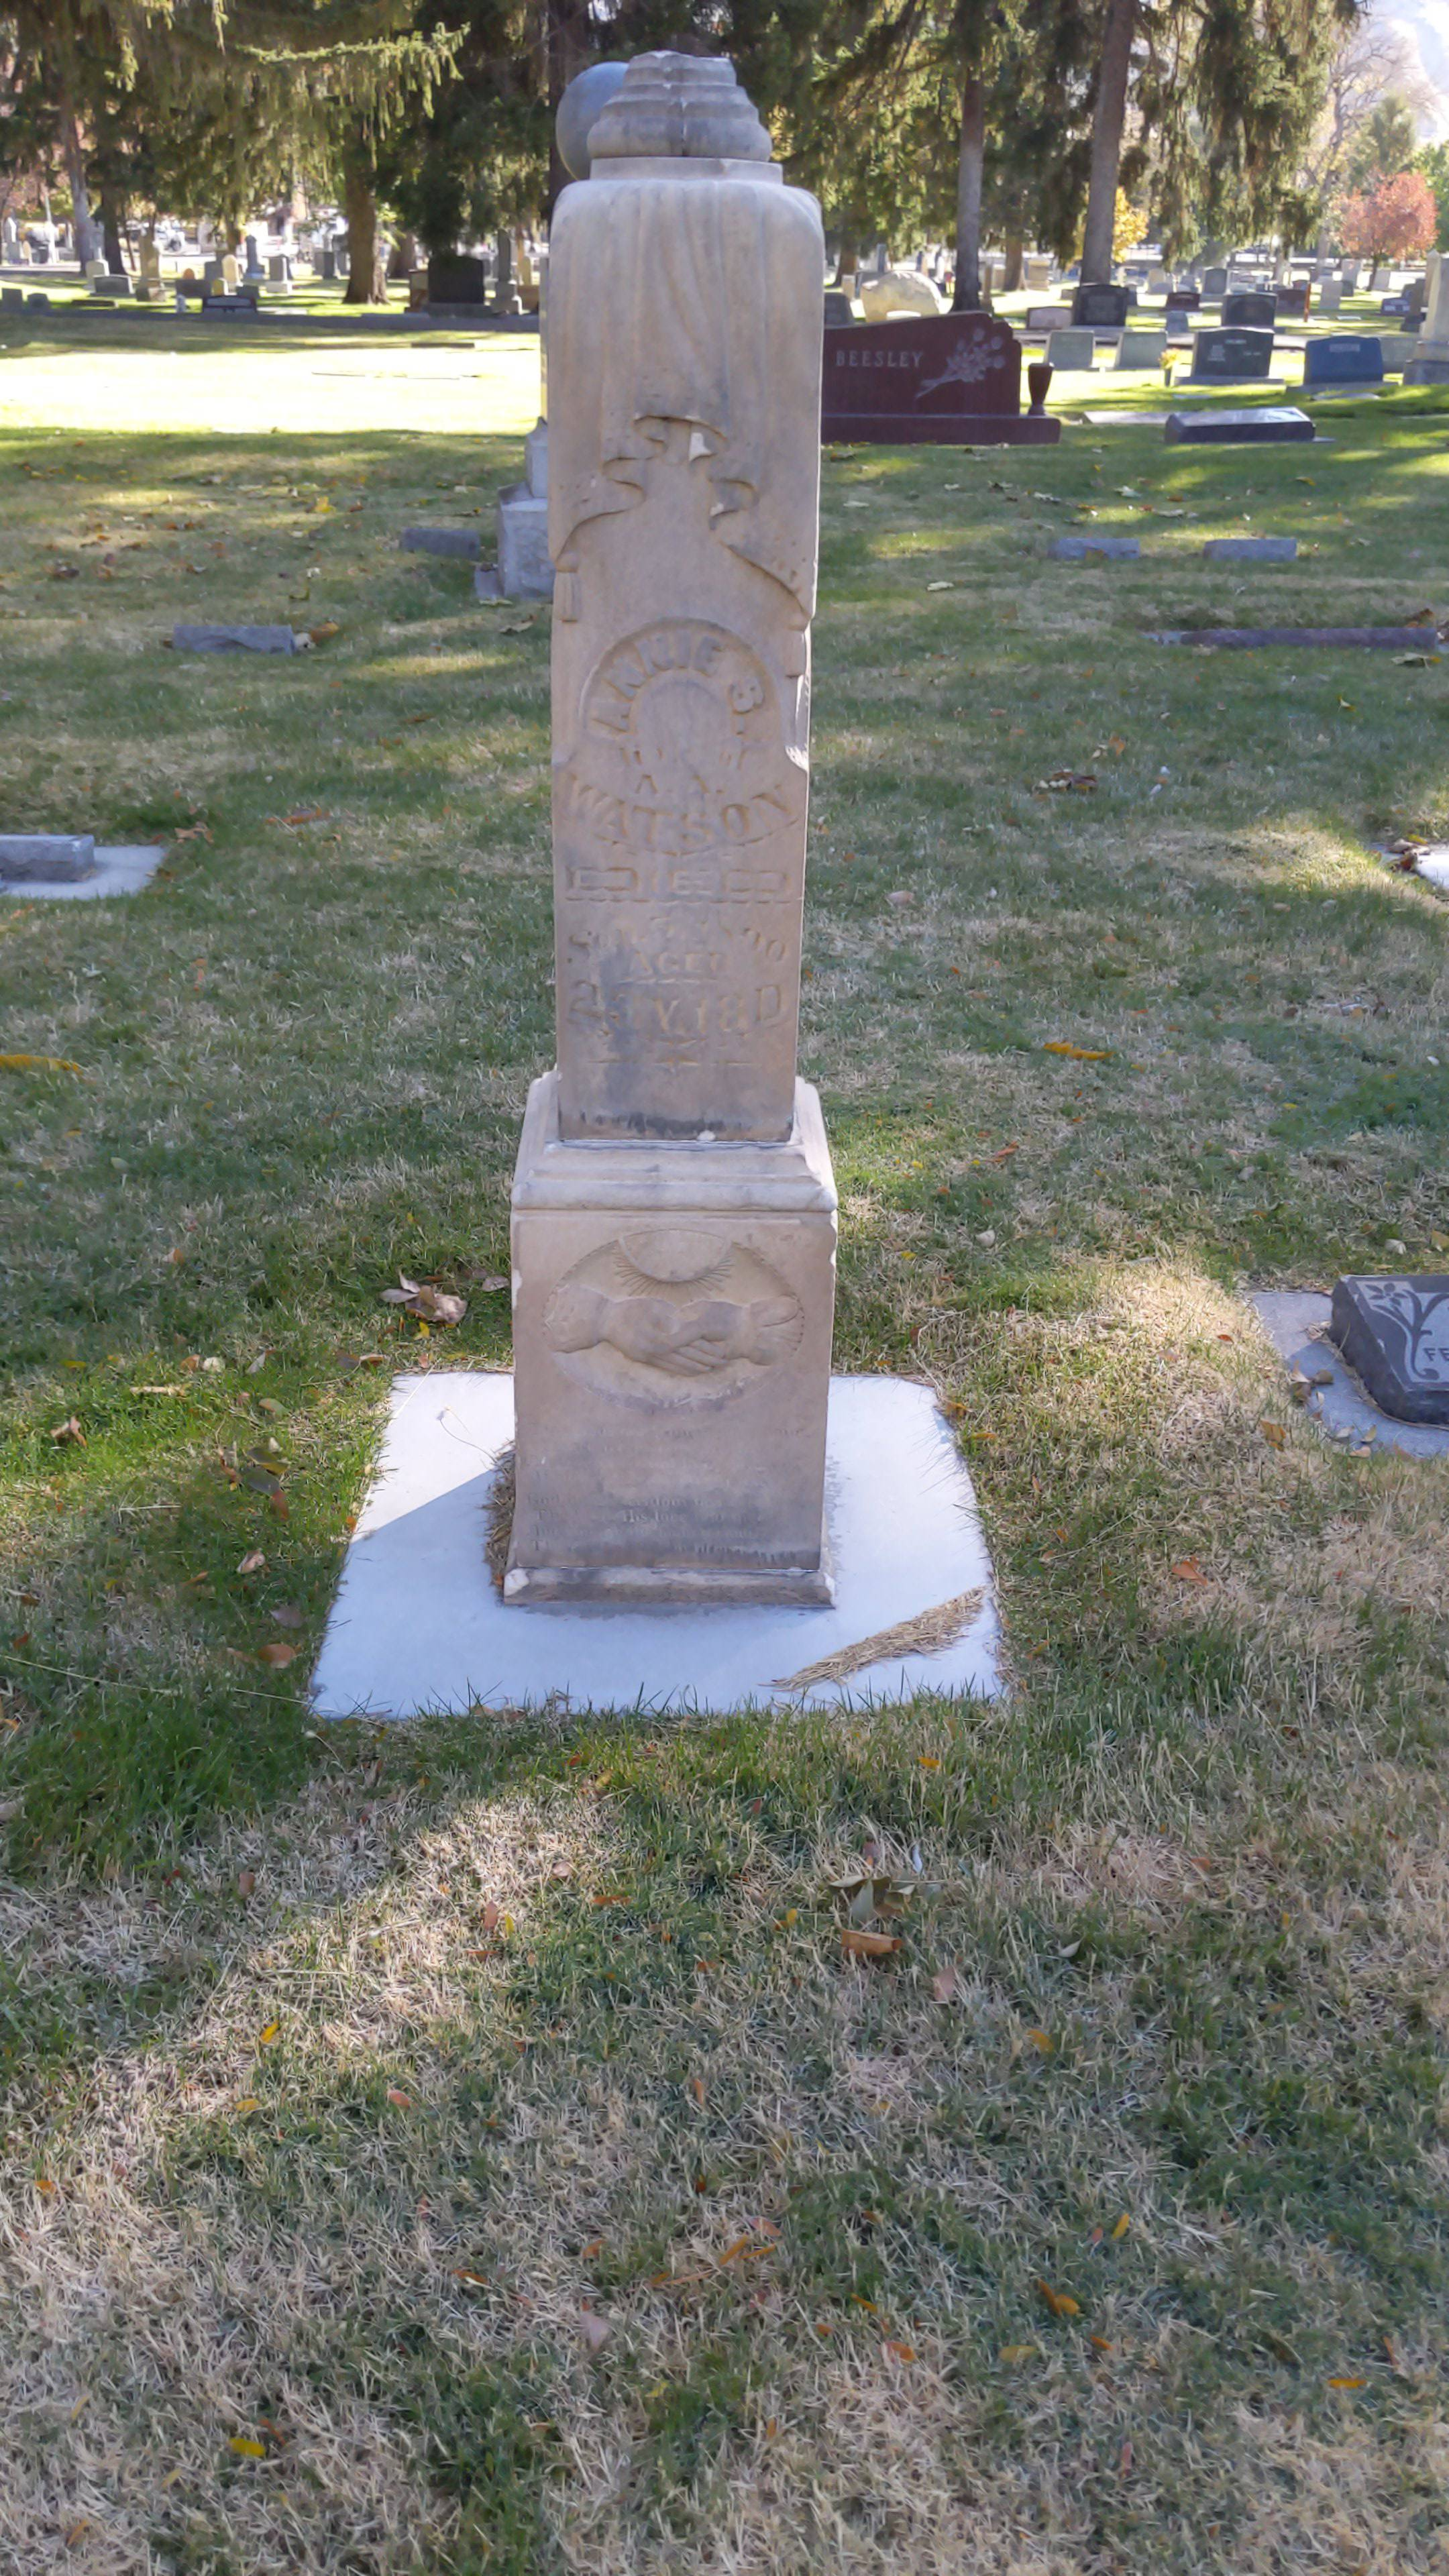obelisk: (513, 55, 826, 1605)
